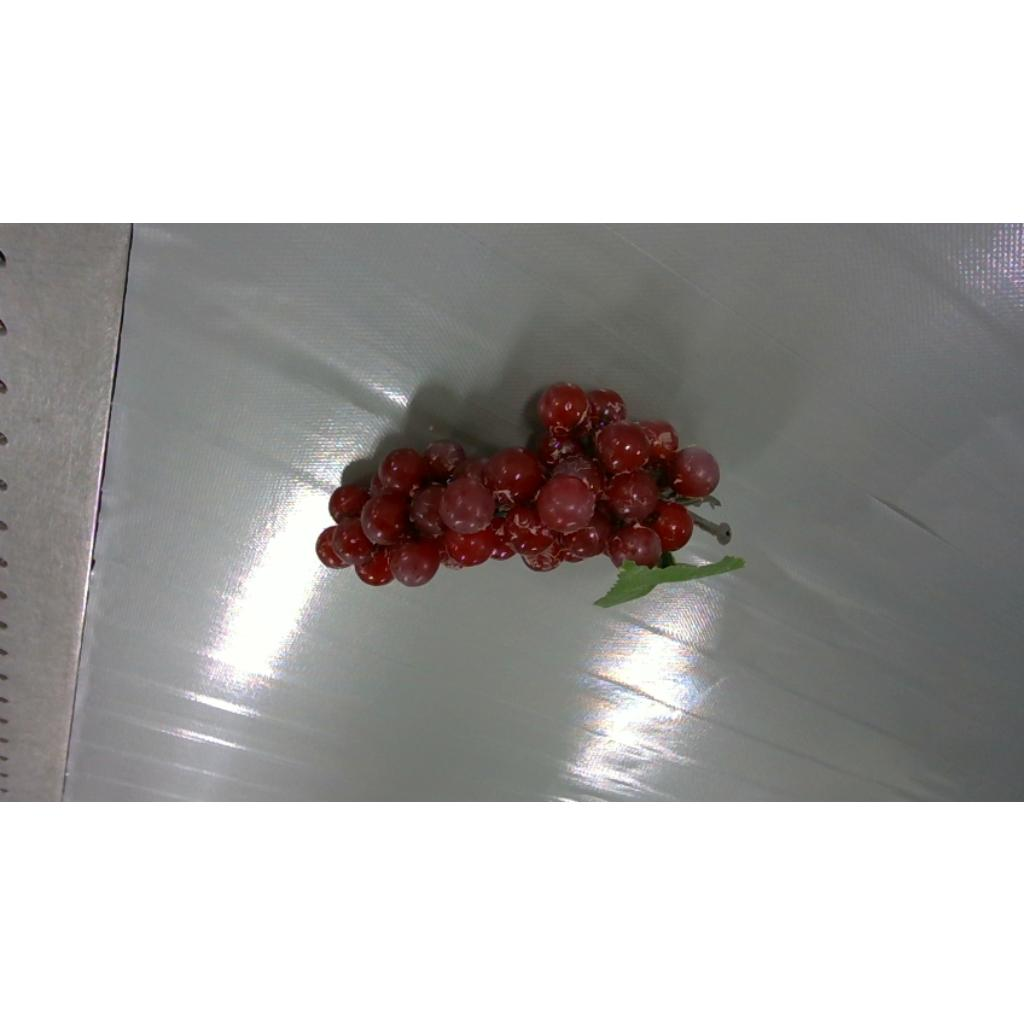grape: (316, 382, 744, 605)
